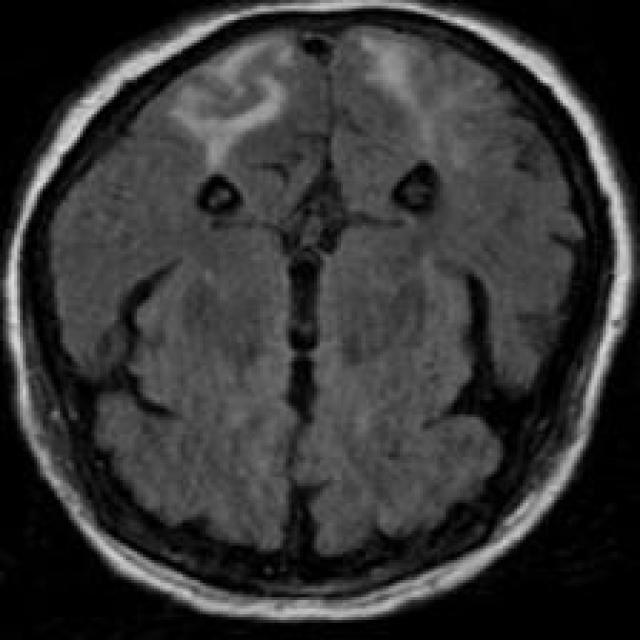no_tumor: (9, 0, 634, 620)
